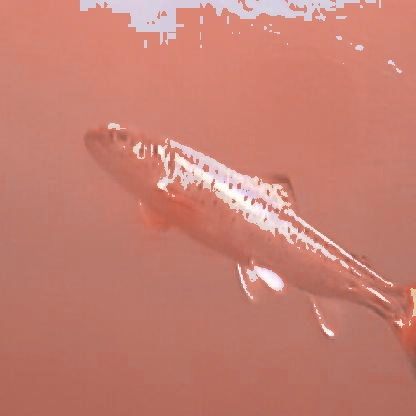salmon: (76, 116, 414, 366)
